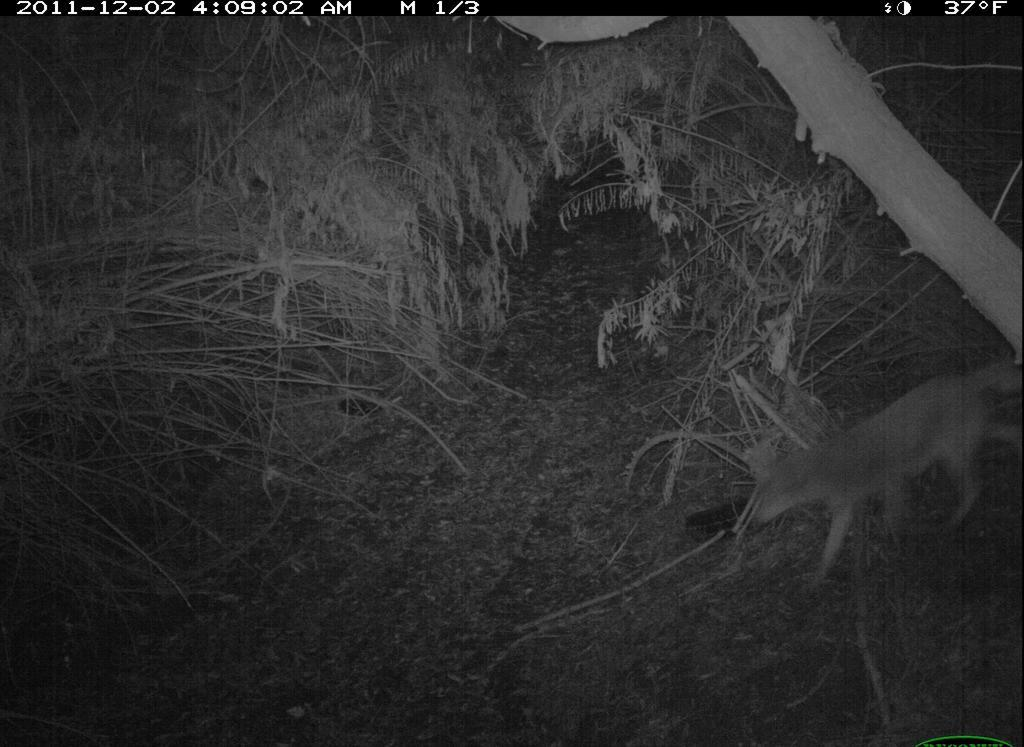coyote: (719, 329, 1023, 597)
